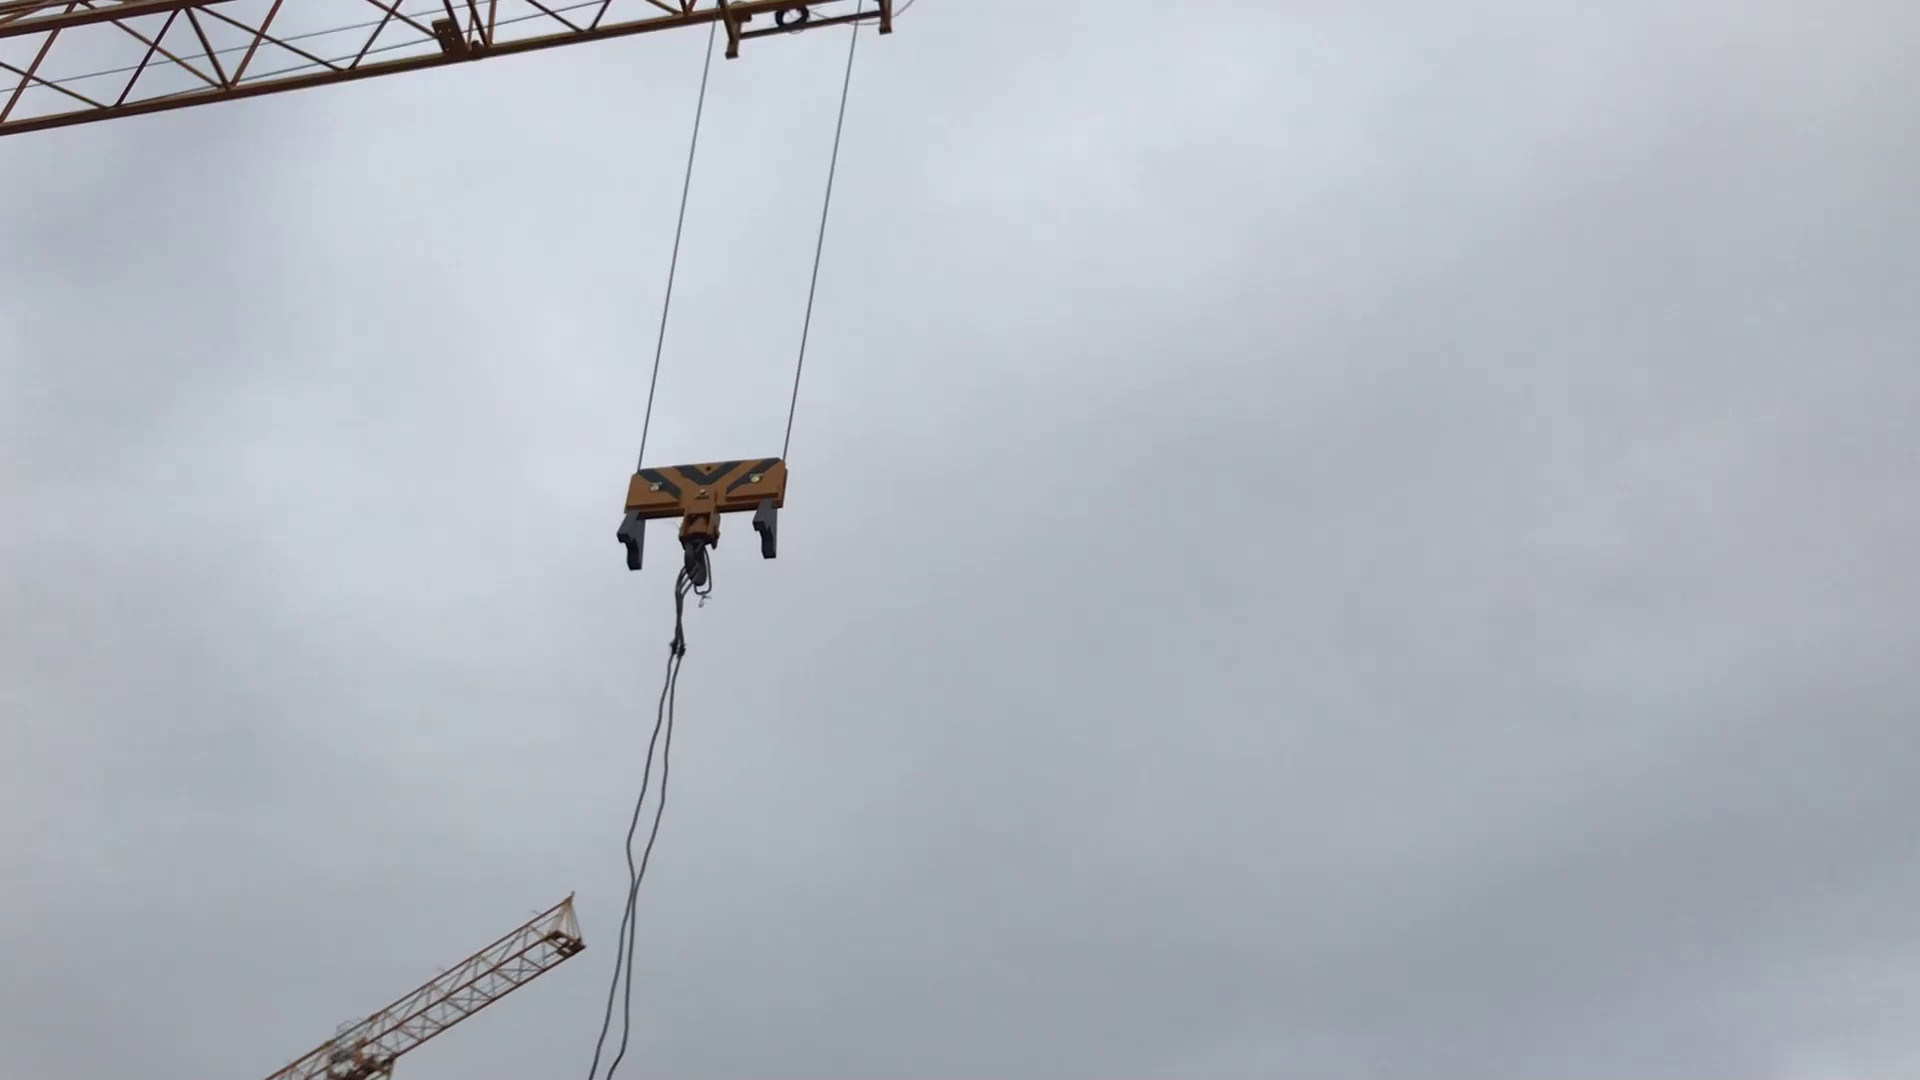hook: (615, 450, 795, 601)
